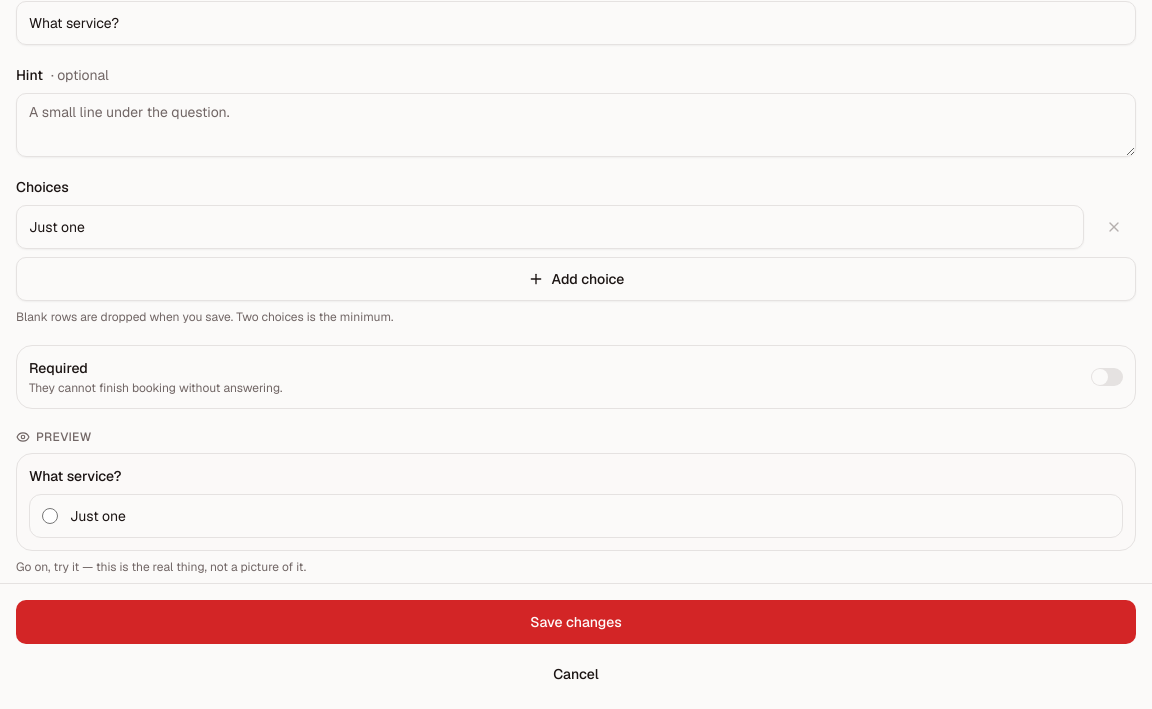
FieldEditor › refuses to save a choice question that has only one choice
The image size is (1152, 709).
(page scrolled)
Click the button "Save changes".
click(576, 622)  # box [16, 600, 1136, 644]
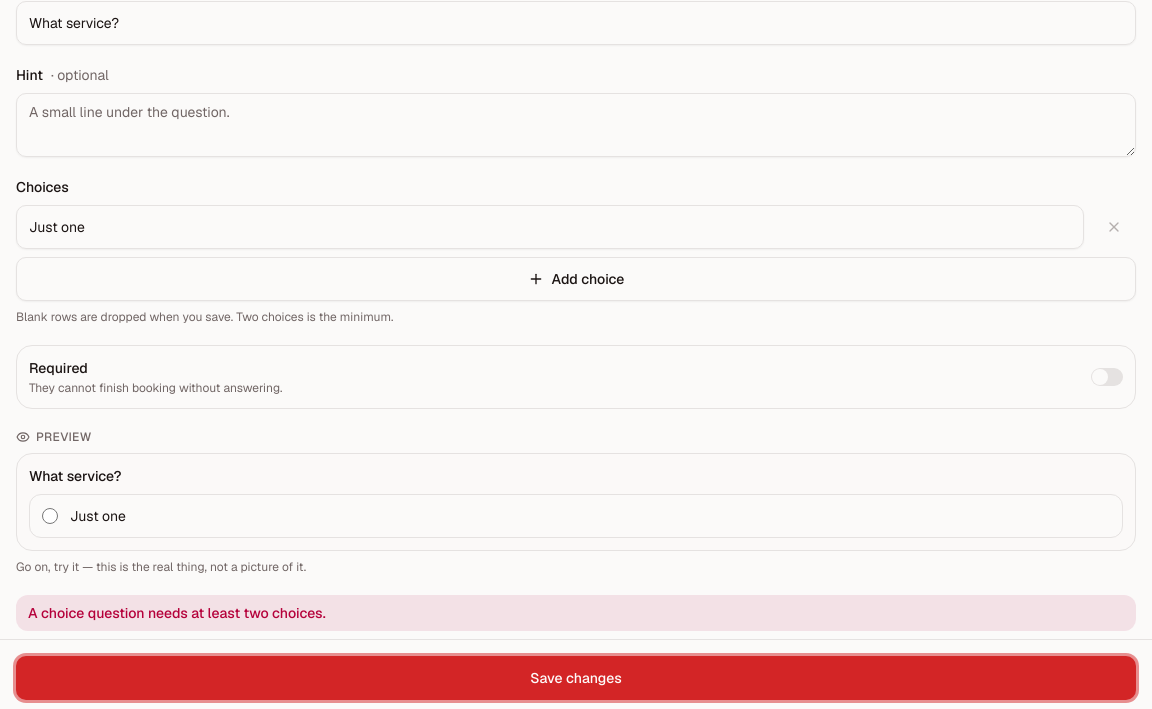
Result: the message reads "A choice question needs at least two choices." at [28, 604, 326, 622]
